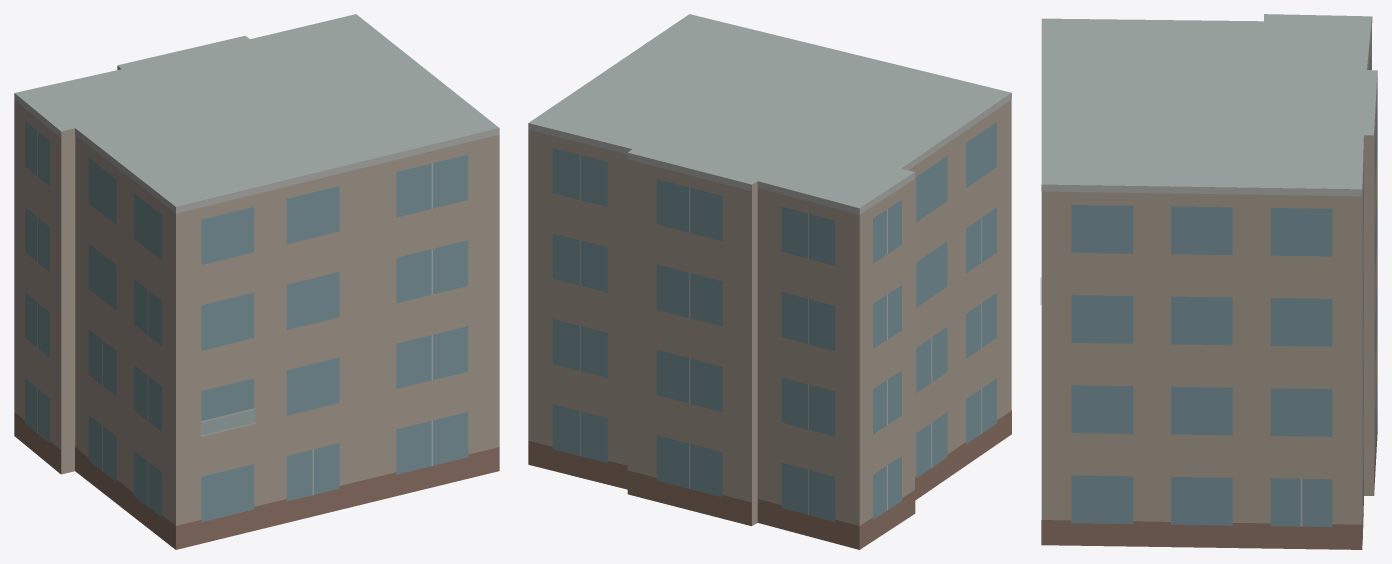
Rendered from survey-upis-32897063.glb.
The picture shows the model from 3 angles, left to right: view 1: azimuth 30°, elevation 25°; view 2: azimuth 150°, elevation 25°; view 3: azimuth 270°, elevation 25°; orthographic projection. The views are drawn at different scales.
Parts seen in each view (by area): view 1: survey-upis-32897063.tmp; view 2: survey-upis-32897063.tmp; view 3: survey-upis-32897063.tmp.
Boxes of the visible parts, box(x1,y1,x2,y2) form: survey-upis-32897063.tmp: box(14, 14, 499, 549); survey-upis-32897063.tmp: box(528, 14, 1011, 549); survey-upis-32897063.tmp: box(1040, 14, 1377, 549).
Size of the model in its own units: 13.11 by 12.56 by 10.65.
